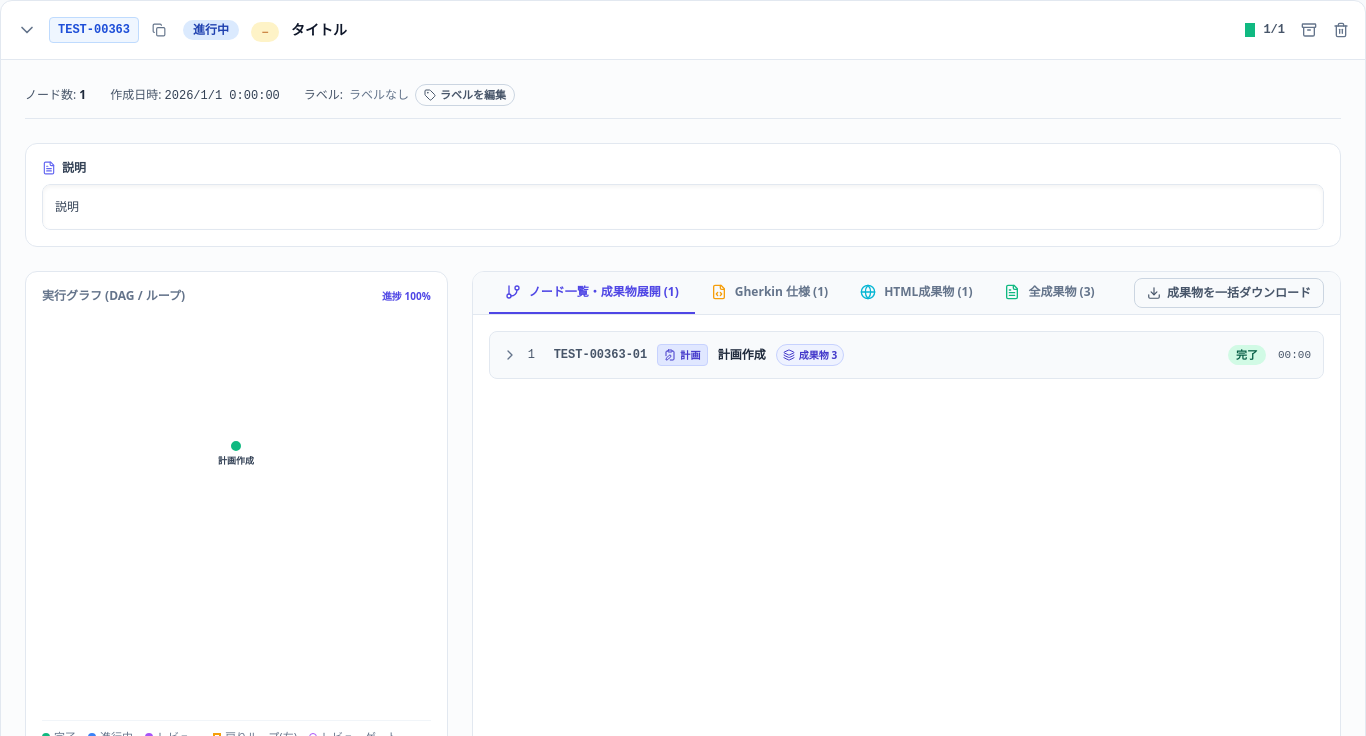
DFLT-00363 the "open in new tab" link shows the blue focus ring › in the node detail
The image size is (1366, 736).
Step 1. Click the text "計画作成" → coordinates (742, 354), box 718,346 -> 766,362
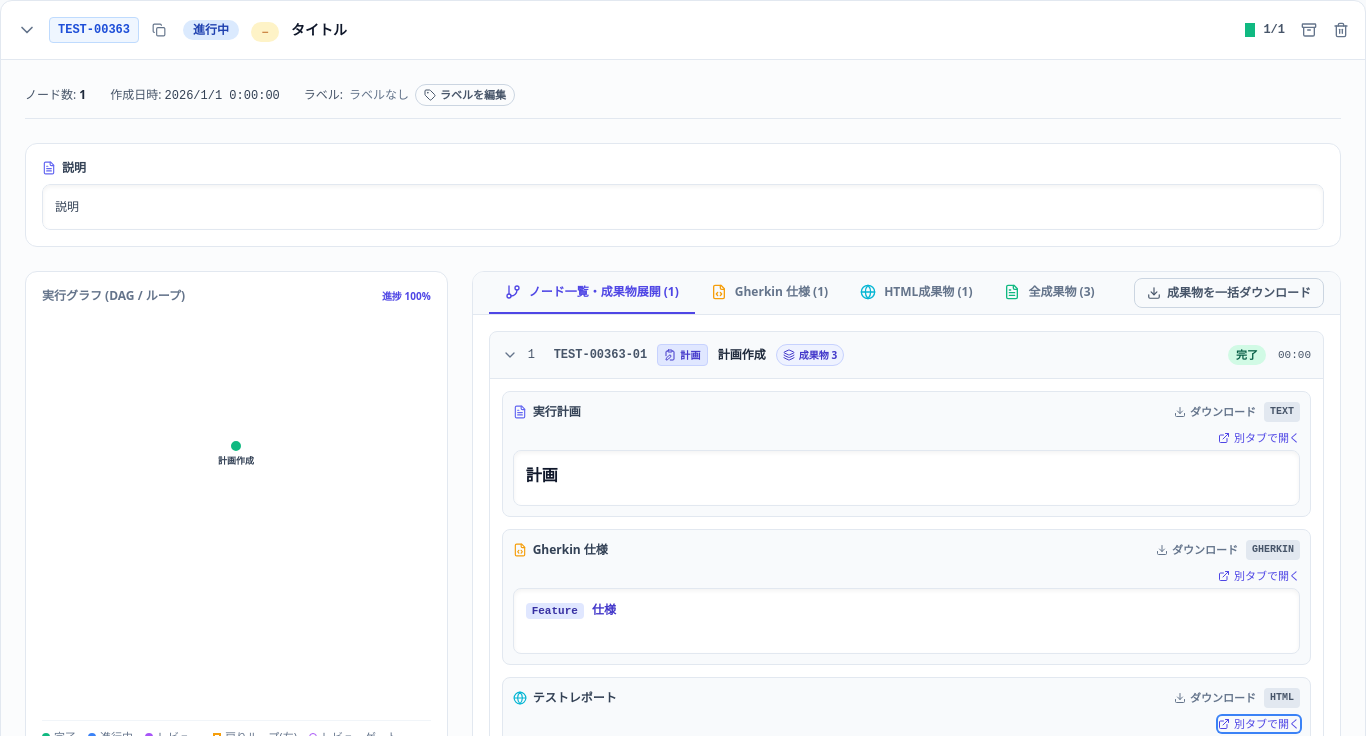
Expected: the number of links "別タブで開く" is 3, 1218,430 -> 1300,446; 1218,568 -> 1300,584; 1218,716 -> 1300,732
